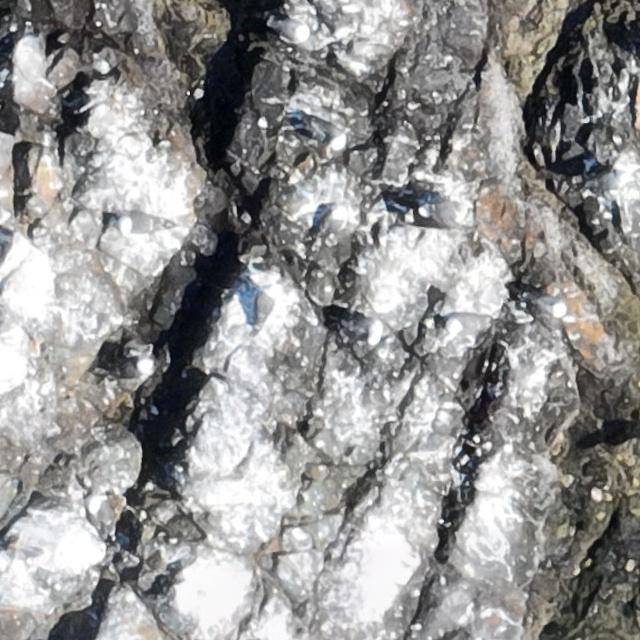umineko: (416, 198, 464, 228), (87, 494, 119, 534), (253, 283, 280, 329), (115, 212, 166, 236), (310, 117, 347, 149), (444, 314, 492, 336), (526, 294, 566, 318), (116, 359, 156, 381)
